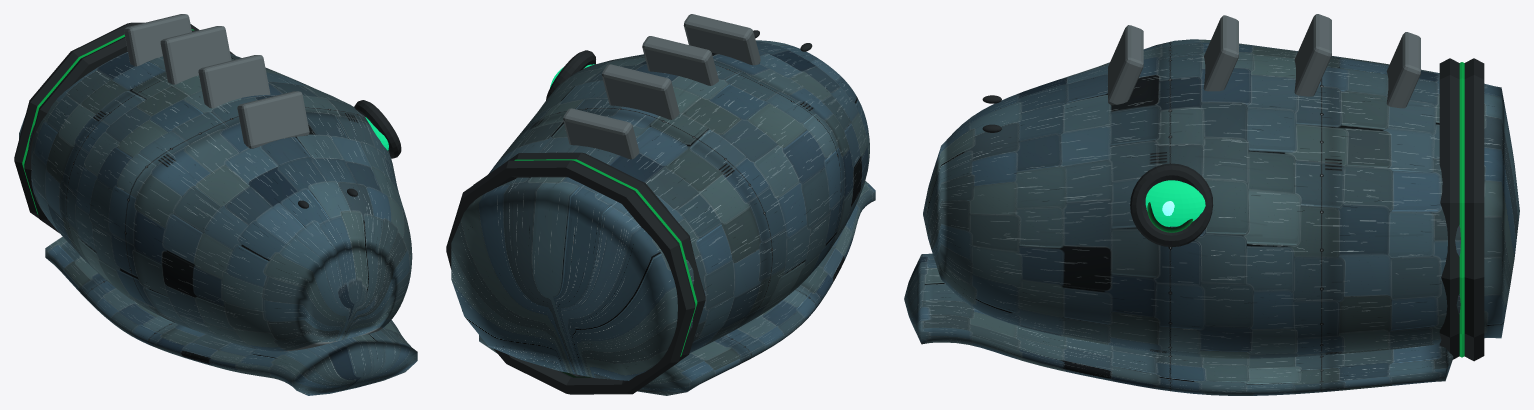
Rendered from snake_head.glb.
3 renders of one model, left to right at view 1: azimuth 30°, elevation 25°; view 2: azimuth 150°, elevation 25°; view 3: azimuth 270°, elevation 25°, orthographic. The views are drawn at different scales.
Visible parts, largest first — view 1: SnakeHead, SnakeJaw, SnakeCrest.003, SnakeCrest.001, SnakeCrest.002, SnakeHeadRingHousing, SnakeHeadRingHousing.001, SnakeCrest, SnakeEyeBezel, SnakeHeadRing; view 2: SnakeHead, SnakeHeadRingHousing, SnakeJaw, SnakeHeadRingHousing.001, SnakeCrest.001, SnakeCrest, SnakeCrest.002, SnakeCrest.003, SnakeHeadRing, SnakeEyeBezel; view 3: SnakeHead, SnakeJaw, SnakeHeadRingHousing, SnakeHeadRingHousing.001, SnakeEyeBezel, SnakeCrest.001, SnakeCrest.003, SnakeCrest.002, SnakeCrest, SnakeEye, SnakeHeadRing.
Boxes of the visible parts, x1,y1,x2,y2 form: SnakeHead: (19,52,412,351); SnakeJaw: (45,236,417,395); SnakeCrest.003: (237,91,309,148); SnakeCrest.001: (160,26,231,84); SnakeCrest.002: (198,55,270,108); SnakeHeadRingHousing: (14,22,231,218); SnakeHeadRingHousing.001: (24,30,235,233); SnakeCrest: (124,14,191,66); SnakeEyeBezel: (354,100,401,158); SnakeHeadRing: (22,29,193,214); SnakeHead: (451,40,869,380); SnakeHeadRingHousing: (446,160,695,394); SnakeJaw: (479,181,875,395); SnakeHeadRingHousing.001: (473,152,705,376); SnakeCrest.001: (602,64,679,119); SnakeCrest: (563,108,639,159); SnakeCrest.002: (642,36,718,85); SnakeCrest.003: (683,14,760,65); SnakeHeadRing: (514,159,697,377); SnakeEyeBezel: (546,50,595,100); SnakeHead: (923,39,1519,358); SnakeJaw: (904,253,1453,395); SnakeHeadRingHousing: (1464,58,1484,361); SnakeHeadRingHousing.001: (1439,58,1459,359); SnakeEyeBezel: (1130,163,1213,247); SnakeCrest.001: (1294,14,1331,96); SnakeCrest.003: (1108,25,1143,105); SnakeCrest.002: (1203,15,1238,91); SnakeCrest: (1386,32,1420,108); SnakeEye: (1145,180,1205,226); SnakeHeadRing: (1459,62,1464,357).
Size of the model in its own units: 1.17 by 1.05 by 1.87.
Materials: 7 (3 with a texture image).
